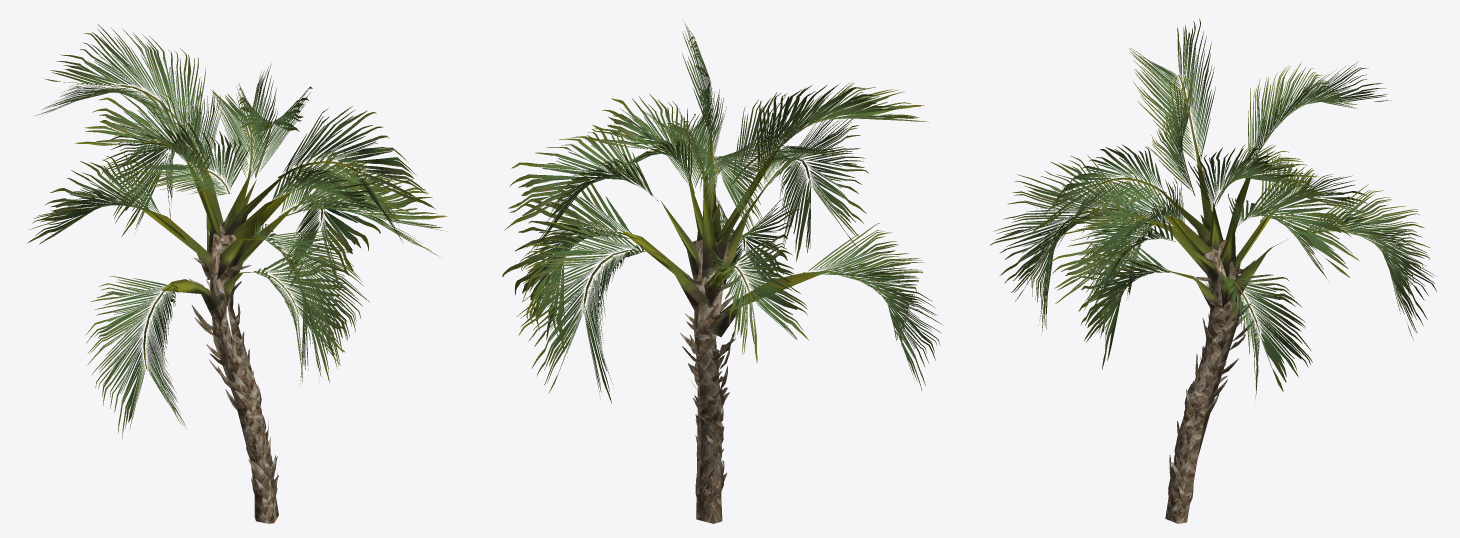
File: curlypalm-far.glb
3 renders of one model, left to right at view 1: azimuth 30°, elevation 25°; view 2: azimuth 150°, elevation 25°; view 3: azimuth 270°, elevation 25°, orthographic. The views are drawn at different scales.
Parts seen in each view (by area): view 1: Tree_1, Tree_3, Tree_0, Tree_2; view 2: Tree_1, Tree_3, Tree_0, Tree_2; view 3: Tree_1, Tree_0, Tree_3, Tree_2.
Boxes of the visible parts, box(x1,y1,x2,y2) form: Tree_1: box(27, 24, 447, 438); Tree_3: box(142, 131, 293, 315); Tree_0: box(209, 221, 278, 523); Tree_2: box(188, 230, 278, 503); Tree_1: box(502, 20, 942, 403); Tree_3: box(620, 123, 826, 336); Tree_0: box(692, 239, 729, 523); Tree_2: box(680, 273, 742, 507); Tree_1: box(990, 18, 1436, 397); Tree_0: box(1165, 239, 1242, 523); Tree_3: box(1133, 136, 1329, 309); Tree_2: box(1168, 260, 1255, 506).
Size of the model in its own units: 1.68 by 2.01 by 1.92.
4 materials, 4 textured.
